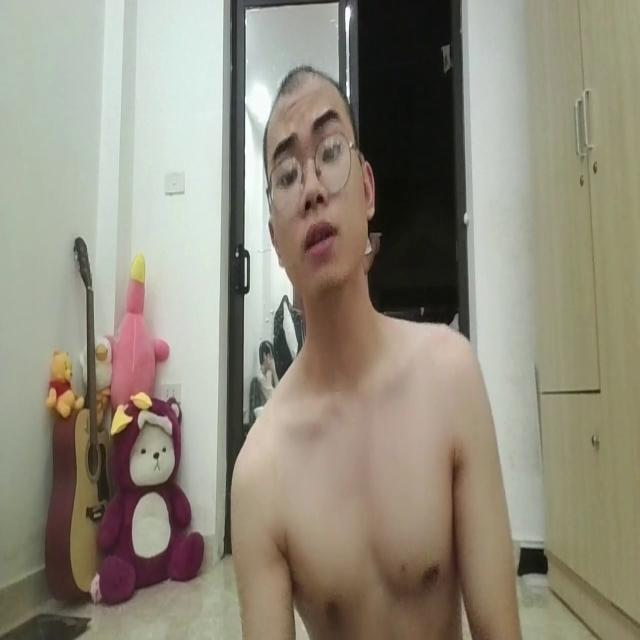student: (225, 40, 523, 640)
